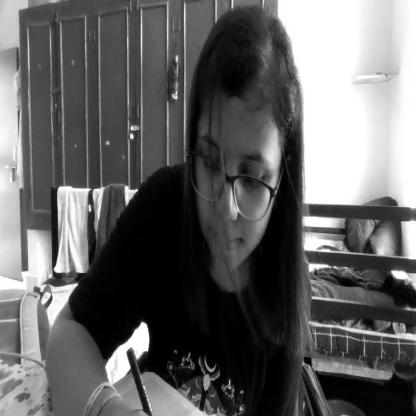Normal: (188, 21, 292, 274)
